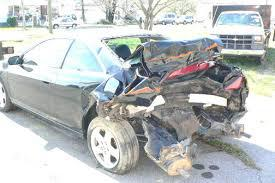boot-dent: (133, 42, 221, 86)
quaterpanel-dent: (94, 76, 145, 113)
